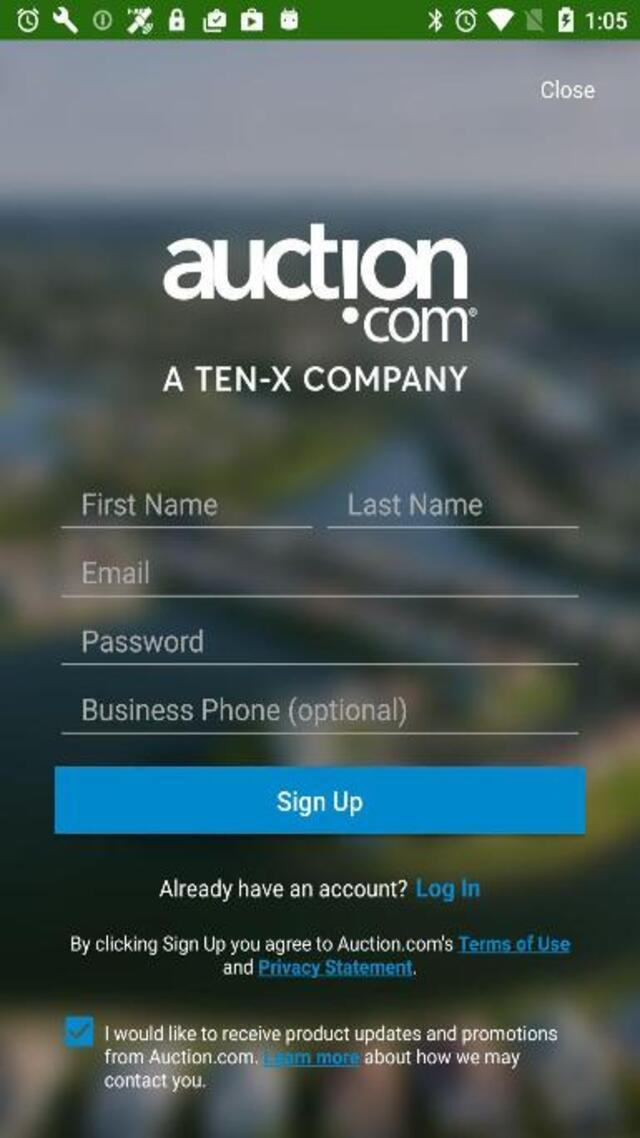CheckedTextView: (62, 1014, 569, 1096)
Image: (162, 222, 476, 343)
Text: (67, 933, 578, 956), (79, 696, 411, 730), (164, 362, 469, 394), (102, 1046, 525, 1069), (101, 1024, 561, 1044), (158, 879, 480, 902), (216, 957, 422, 980), (81, 491, 221, 520), (344, 491, 485, 519), (80, 628, 207, 656), (272, 787, 369, 820), (102, 1072, 208, 1094), (80, 560, 149, 588), (542, 79, 595, 99)
TextButton: (53, 766, 585, 834)
